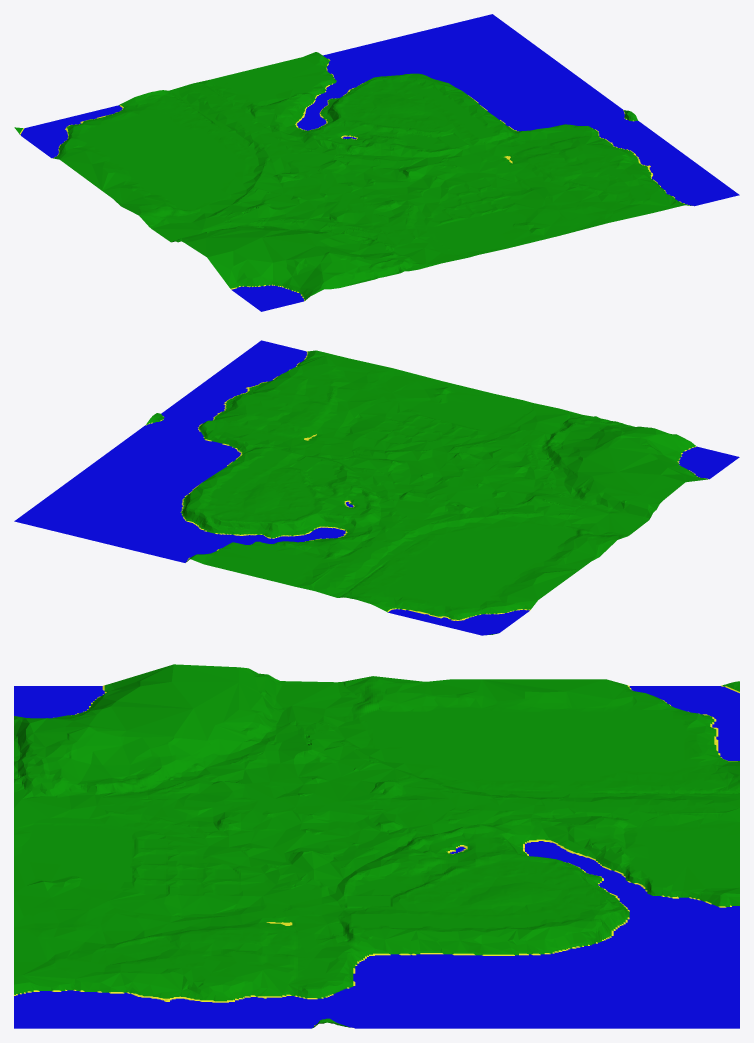
File: manifold.obj
3 renders of one model, top to bottom at view 1: azimuth 30°, elevation 25°; view 2: azimuth 150°, elevation 25°; view 3: azimuth 270°, elevation 25°, orthographic. The views are drawn at different scales.
Parts seen in each view (by area): view 1: ground, deepwater, water; view 2: ground, deepwater, water; view 3: ground, deepwater, water.
Part boxes in pixels (<box>): ground: <box>14,52,690,300</box>; deepwater: <box>20,14,739,311</box>; water: <box>20,58,691,301</box>; ground: <box>146,350,707,635</box>; deepwater: <box>14,340,739,635</box>; water: <box>145,351,708,620</box>; ground: <box>14,664,739,1028</box>; deepwater: <box>14,686,739,1028</box>; water: <box>14,685,739,1027</box>.
Bounding box in the file's own units: 822 × 28.88 × 736.
